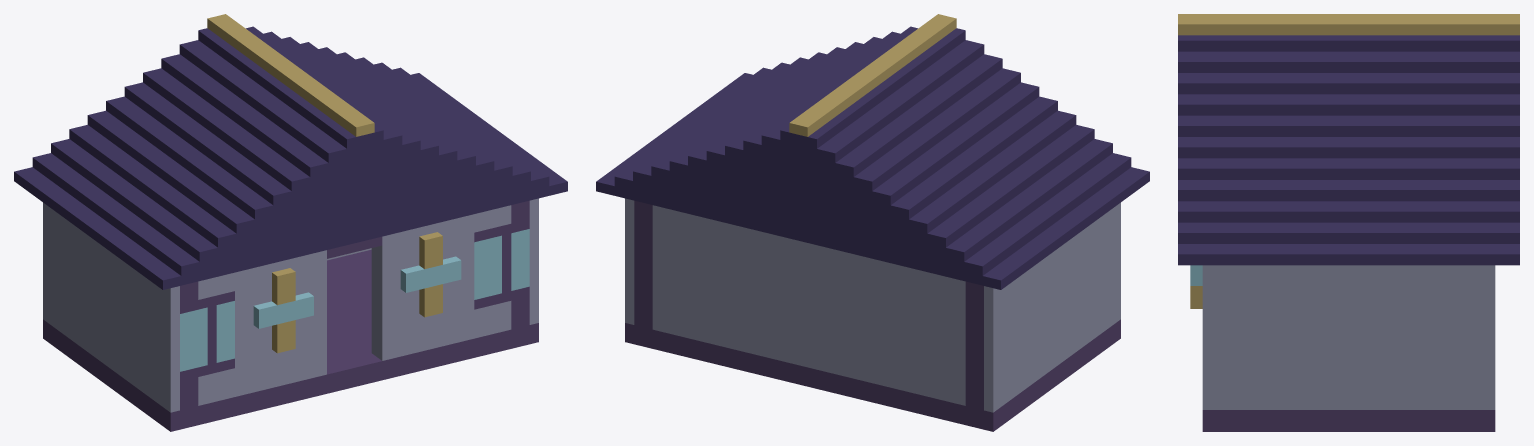
File: workshop.glb
3 views of the same model, side by side, from view 1: azimuth 30°, elevation 25°; view 2: azimuth 150°, elevation 25°; view 3: azimuth 270°, elevation 25° (orthographic). The views are drawn at different scales.
Parts seen in each view (by area): view 1: Shell; view 2: Shell; view 3: Shell.
Boxes of the visible parts, x1,y1,x2,y2 form: Shell: [14, 14, 567, 431]; Shell: [596, 14, 1149, 431]; Shell: [1178, 14, 1519, 431].
Bounding box in the file's own units: 5.5 × 3.5 × 3.5.
